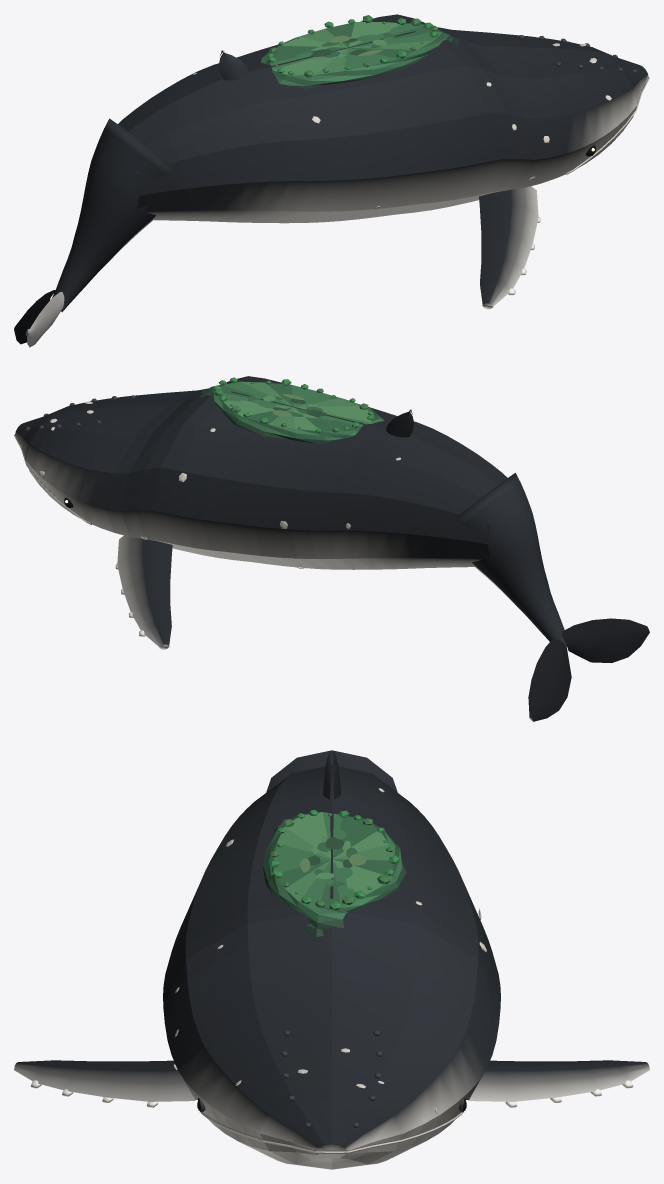
Rendered from kun-battle-v2.glb.
3 renders of one model, top to bottom at view 1: azimuth 30°, elevation 25°; view 2: azimuth 150°, elevation 25°; view 3: azimuth 270°, elevation 25°, orthographic. The views are drawn at different scales.
Visible parts, largest first — view 1: leviathan-body, leviathan-tail-stalk, leviathan-crust-plate, leviathan-pectoral-R, leviathan-fluke-R, leviathan-fluke-L, leviathan-dorsal; view 2: leviathan-body, leviathan-tail-stalk, leviathan-crust-plate, leviathan-pectoral-L, leviathan-fluke-R, leviathan-fluke-L, leviathan-dorsal; view 3: leviathan-body, leviathan-crust-plate, leviathan-pectoral-L, leviathan-pectoral-R, Kun lower jaw warm pale shell, leviathan-tail-stalk, Kun lower pale lip.
Boxes of the visible parts, x1,y1,x2,y2 form: leviathan-body: (118, 14, 648, 223); leviathan-tail-stalk: (51, 118, 174, 312); leviathan-crust-plate: (260, 22, 459, 88); leviathan-pectoral-R: (479, 186, 538, 309); leviathan-fluke-R: (25, 292, 64, 347); leviathan-fluke-L: (14, 290, 55, 344); leviathan-dorsal: (218, 50, 248, 80); leviathan-body: (15, 376, 507, 569); leviathan-tail-stalk: (455, 473, 566, 646); leviathan-crust-plate: (199, 381, 384, 443); leviathan-pectoral-L: (117, 535, 172, 649); leviathan-fluke-R: (562, 618, 649, 662); leviathan-fluke-L: (528, 639, 571, 721); leviathan-dorsal: (386, 409, 413, 437); leviathan-body: (163, 765, 500, 1150); leviathan-crust-plate: (263, 812, 406, 936); leviathan-pectoral-L: (468, 1060, 649, 1101); leviathan-pectoral-R: (14, 1060, 195, 1101); Kun lower jaw warm pale shell: (209, 1120, 454, 1169); leviathan-tail-stalk: (266, 750, 397, 792); Kun lower pale lip: (201, 1112, 463, 1153).
Size of the model in its own units: 47.45 by 18.75 by 33.13.
